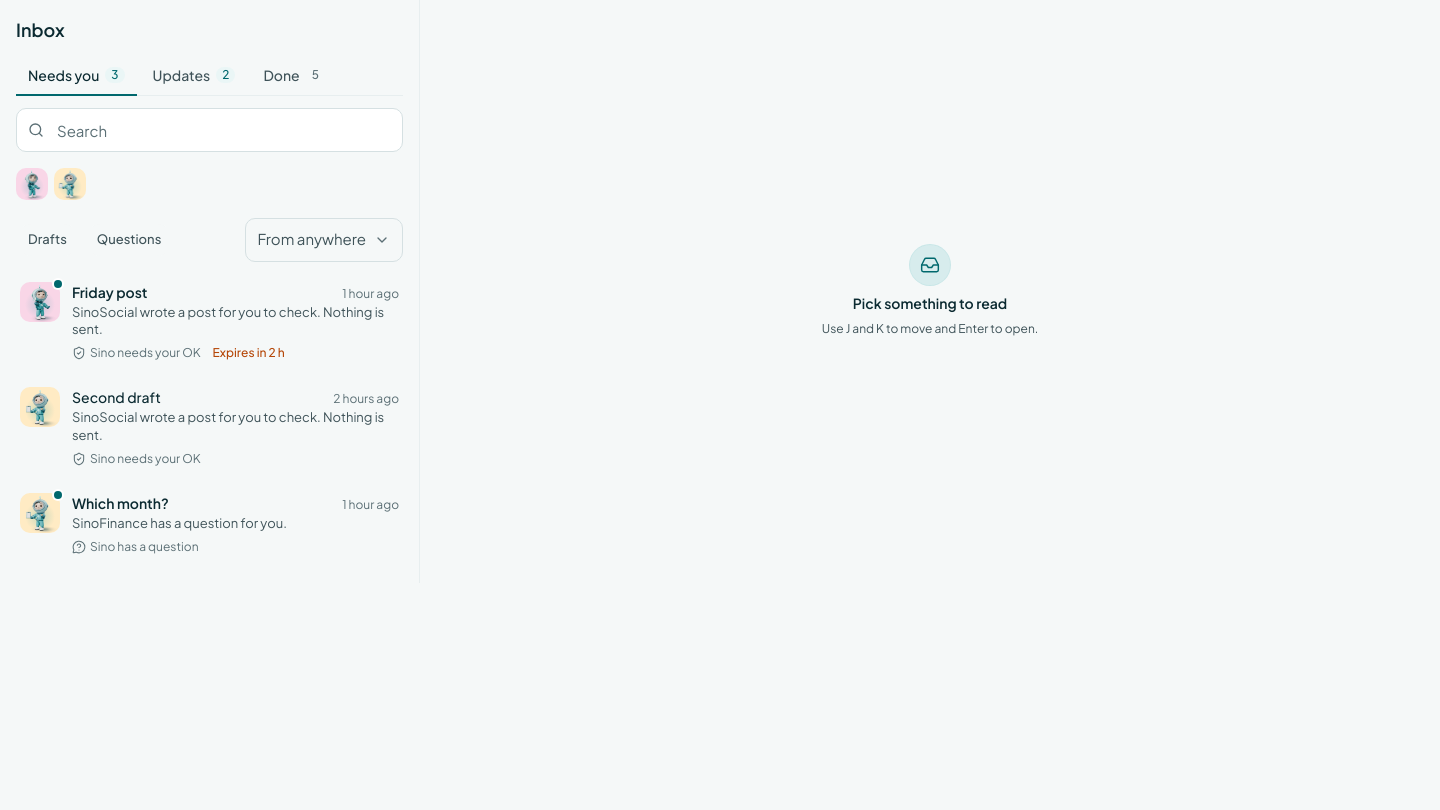
it: opening an item › shows the detail beside the list, marks it read and writes the address
Click the button "Friday post".
click(210, 321)  # box [8,270,411,373]
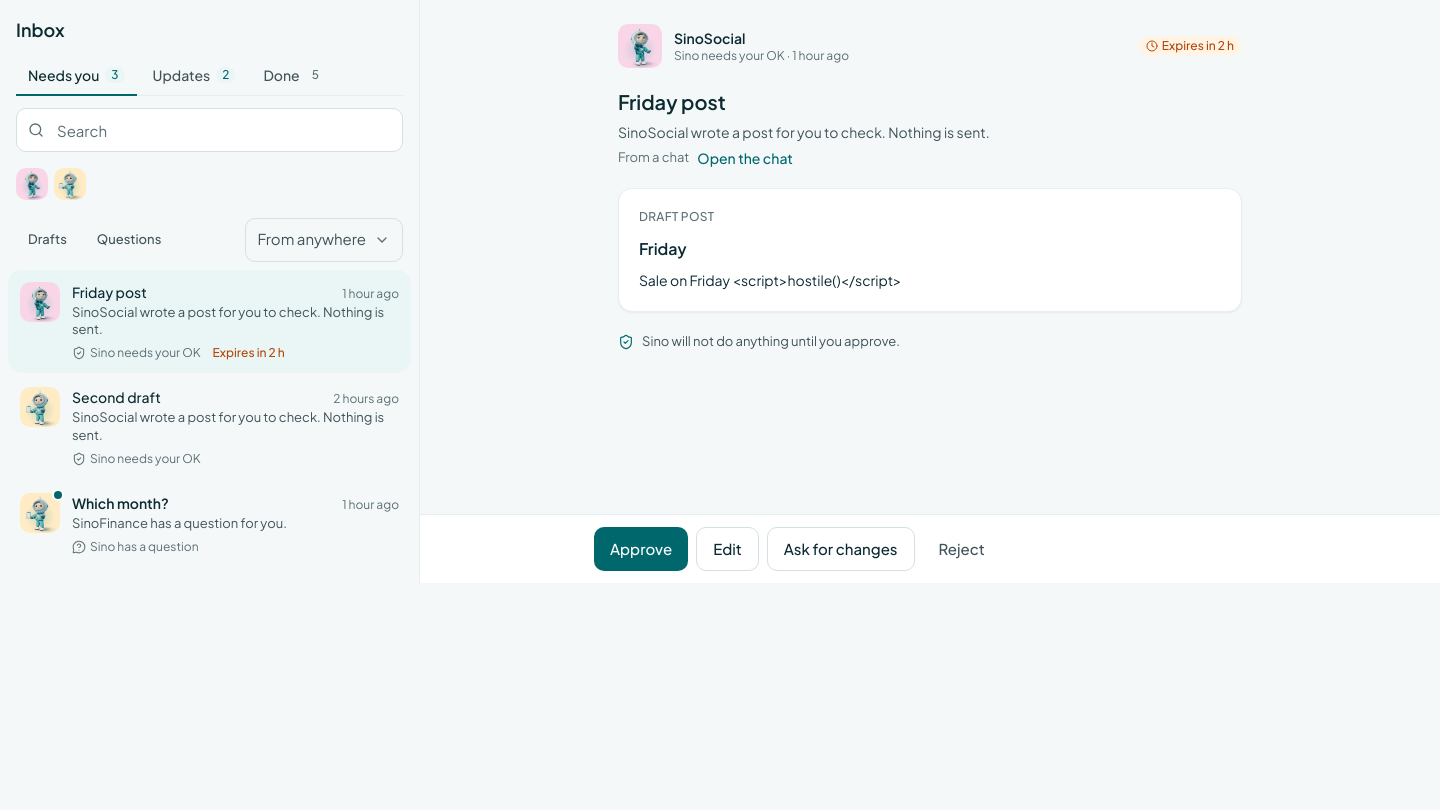
Expected: the heading "Friday post" is shown, [618,89,726,114]
